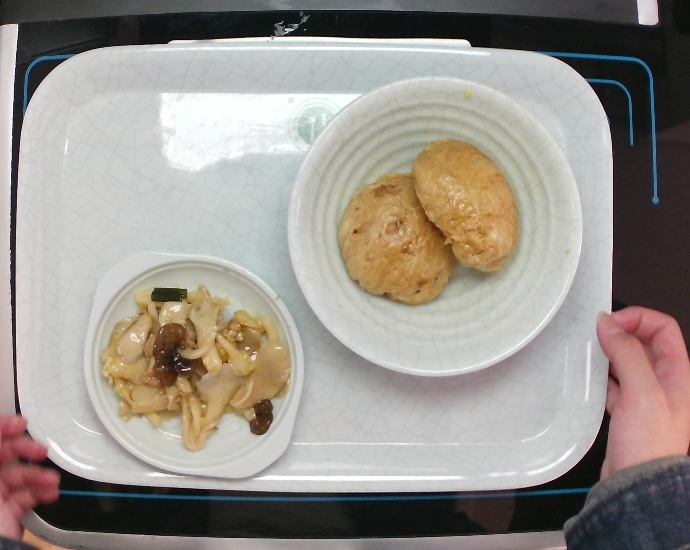JYsf-Shuang_Er_Pan: (84, 247, 305, 482)
JYsf-Xiao_Tang_Wan: (286, 78, 587, 380)
